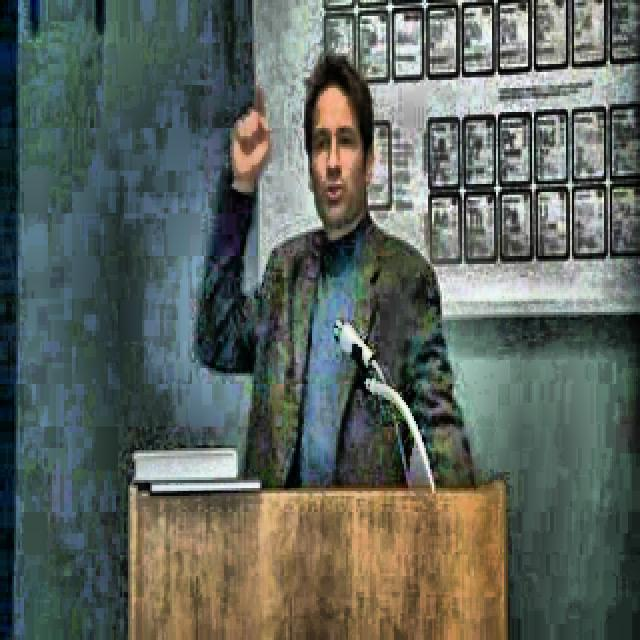T: (178, 54, 476, 497)
